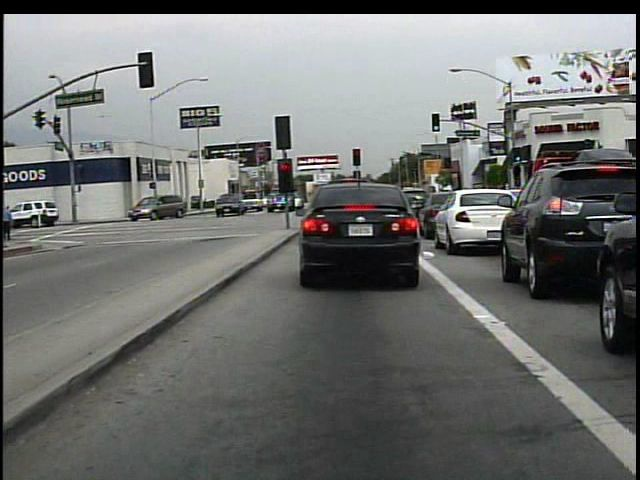person: (5, 204, 19, 246), (210, 188, 232, 214)
